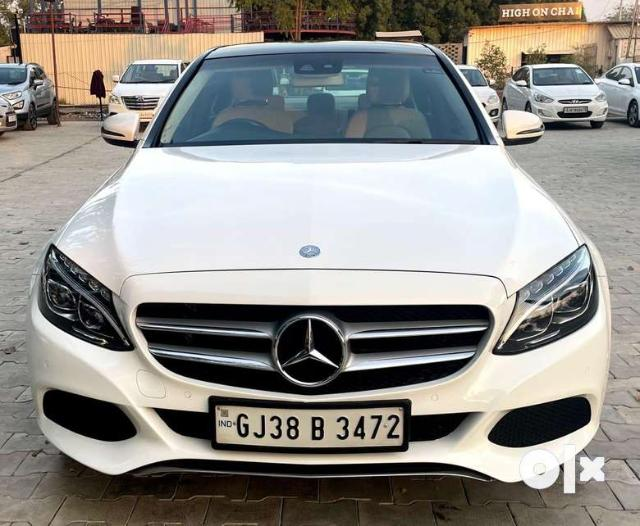Indian_Number_Plate: (211, 400, 409, 448)
